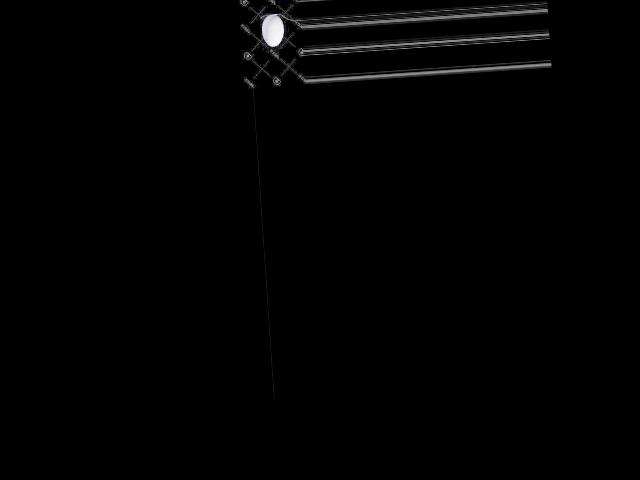egg: (261, 13, 285, 47)
